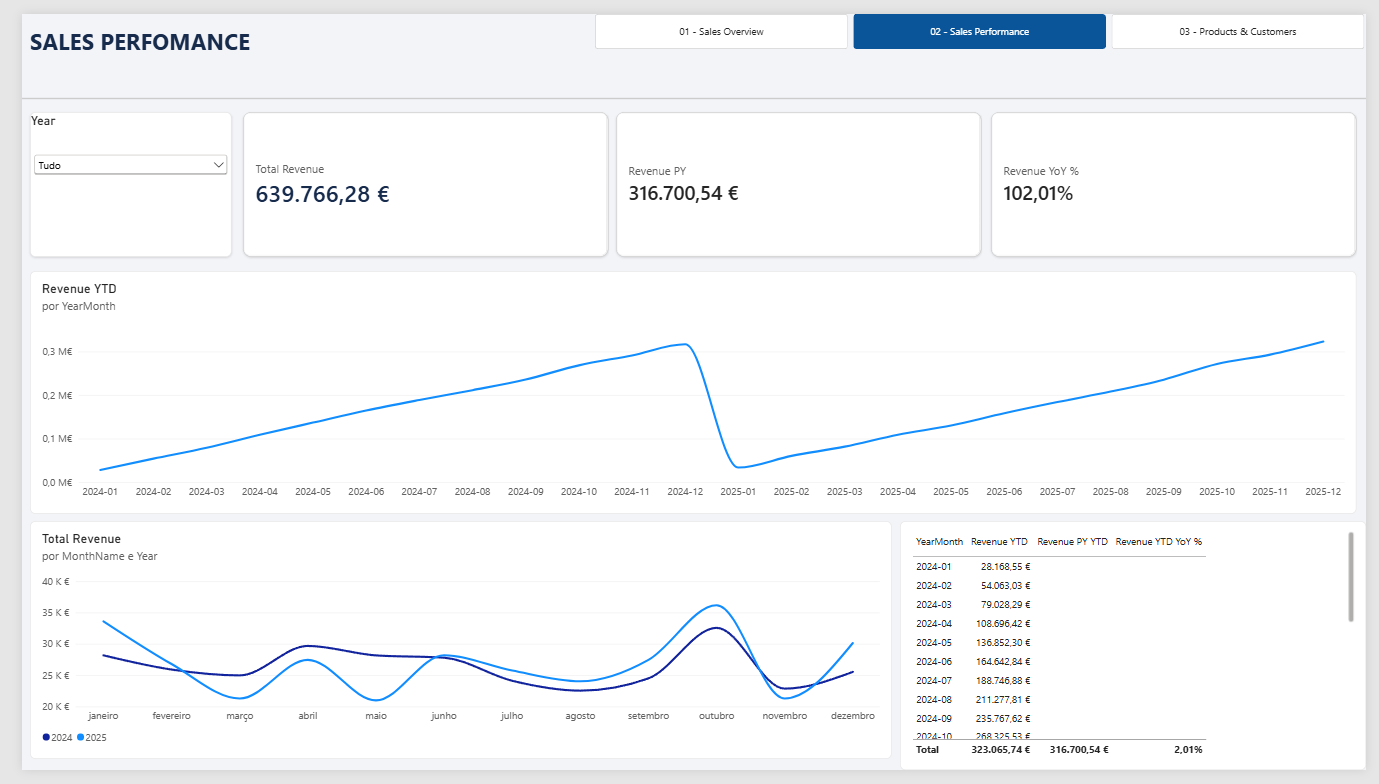

What the dashboard file says about the page in this screenshot:
{"tool":"powerbi","page":{"name":"02 - Sales Performance","canvas":[1920,1080],"ordinal":4},"visuals":[{"type":"lineChart","fields":{"Category":["DimDate.YearMonth"],"Y":["_Measures.Revenue YTD"]},"box":[11.7,366.7,1895,346.7],"z":0},{"type":"lineChart","fields":{"Category":["DimDate.MonthName"],"Series":["DimDate.Year"],"Y":["_Measures.Total Revenue"]},"box":[11.4,724.3,1231.4,340],"z":3000},{"type":"tableEx","fields":{"Values":["DimDate.YearMonth","_Measures.Revenue YTD","_Measures.Revenue PY YTD","_Measures.Revenue YTD YoY %"]},"box":[1254.3,724.3,665.7,355.7],"z":4000},{"type":"pageNavigator","box":[818.3,0,1101.7,50],"z":7000},{"type":"shape","box":[0,101.1,1920.6,38.6],"z":8000},{"type":"textbox","box":[11.4,15.7,341.4,57.1],"z":9000},{"type":"slicer","title":"Year","fields":{"Values":["DimDate.Year"]},"box":[11.7,140,288.3,206.7],"z":9002},{"type":"cardVisual","fields":{"Data":["_Measures.Total Revenue"]},"box":[315,140,521.7,206.7],"z":9003},{"type":"cardVisual","fields":{"Data":["_Measures.Revenue PY"]},"box":[848.3,140,521.7,206.7],"z":9004},{"type":"cardVisual","fields":{"Data":["_Measures.Revenue YoY %"]},"box":[1385,140,521.7,206.7],"z":9005}]}

Visuals, with their boxes in screenshot pixels (x1, y1, x2, y2), scaled from the page's 1920x1080 canvas onto the 1379x784 screenshot:
lineChart - DimDate.YearMonth x _Measures.Revenue YTD: pyautogui.locateOnScreen(8, 266, 1369, 518)
lineChart - DimDate.MonthName x DimDate.Year: pyautogui.locateOnScreen(8, 526, 893, 773)
tableEx - DimDate.YearMonth x _Measures.Revenue YTD: pyautogui.locateOnScreen(901, 526, 1378, 783)
pageNavigator: pyautogui.locateOnScreen(588, 0, 1378, 36)
shape: pyautogui.locateOnScreen(0, 73, 1378, 101)
textbox: pyautogui.locateOnScreen(8, 11, 253, 53)
"Year" slicer: pyautogui.locateOnScreen(8, 102, 215, 252)
cardVisual - _Measures.Total Revenue: pyautogui.locateOnScreen(226, 102, 601, 252)
cardVisual - _Measures.Revenue PY: pyautogui.locateOnScreen(609, 102, 984, 252)
cardVisual - _Measures.Revenue YoY %: pyautogui.locateOnScreen(995, 102, 1369, 252)
